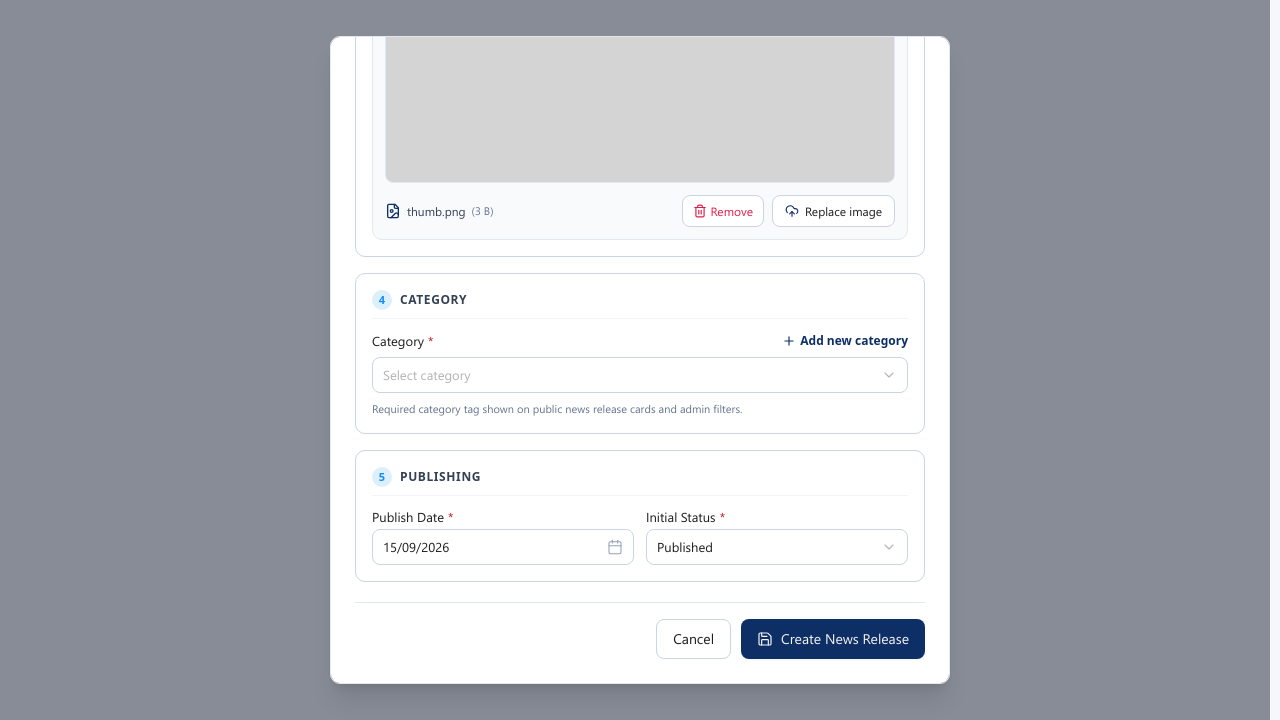
it: News Release Form — 22 Verification Tests › 13. requires category upon submission
(page scrolled)
Click the button "Create News Release".
click(833, 639)  # box [741, 619, 925, 659]
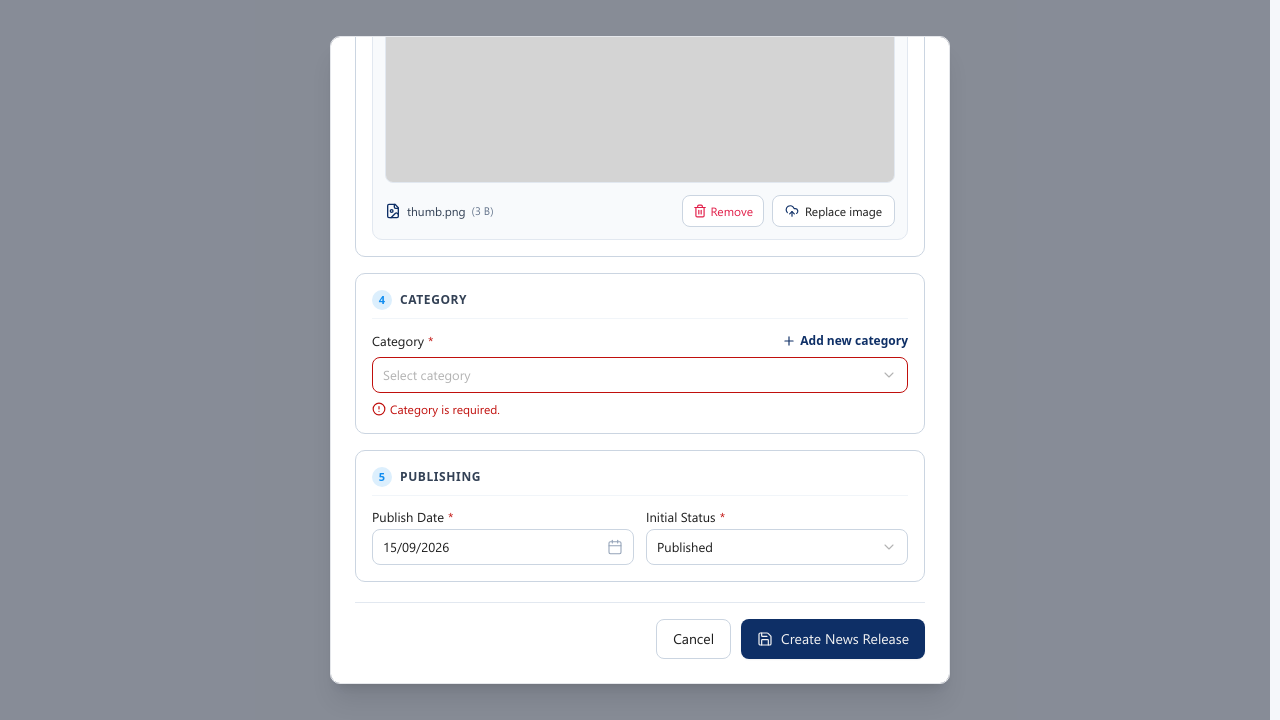
Result: the text "Category is required." is shown at [390, 401, 500, 417]
